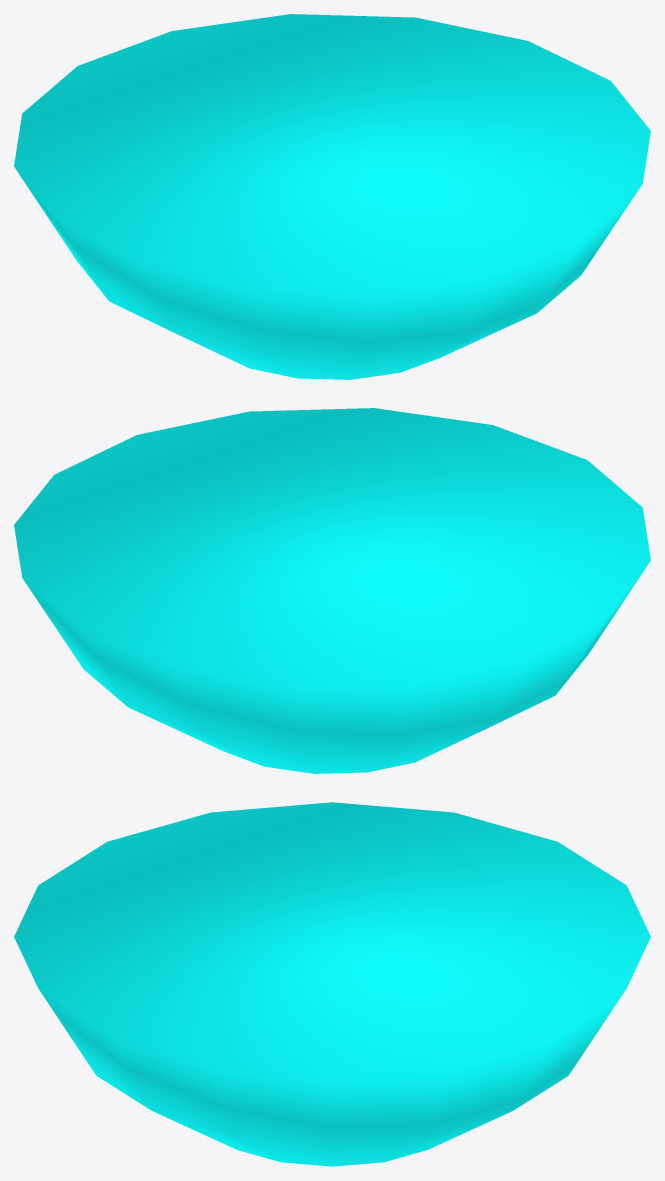
File: WaterDrop_20.glb
3 renders of one model, top to bottom at view 1: azimuth 30°, elevation 25°; view 2: azimuth 150°, elevation 25°; view 3: azimuth 270°, elevation 25°, orthographic.
Parts seen in each view (by area): view 1: WaterDrop_20; view 2: WaterDrop_20; view 3: WaterDrop_20.
Boxes of the visible parts, x1,y1,x2,y2 form: WaterDrop_20: (14, 14, 650, 379); WaterDrop_20: (14, 408, 650, 773); WaterDrop_20: (14, 802, 650, 1166).
Size of the model in its own units: 0.5452 by 0.1782 by 0.5452.
Materials: 1 (1 with a texture image).
